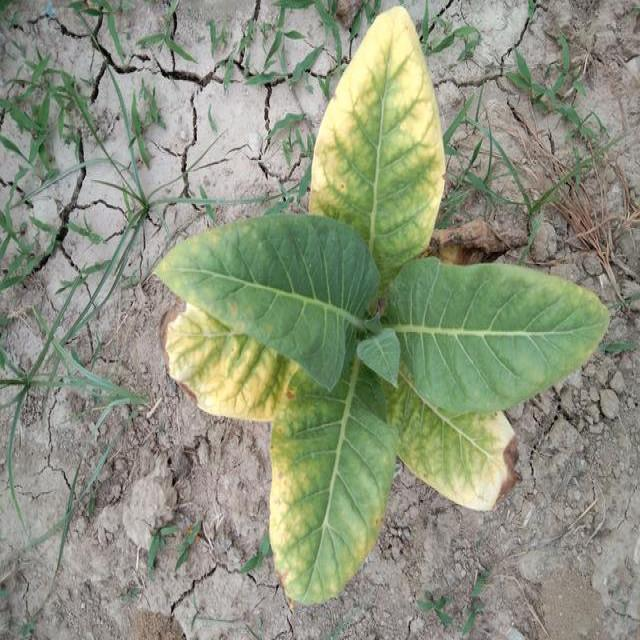crop: (172, 11, 599, 584)
